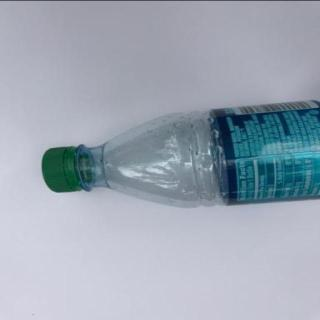Anorganik: (37, 91, 320, 209)
